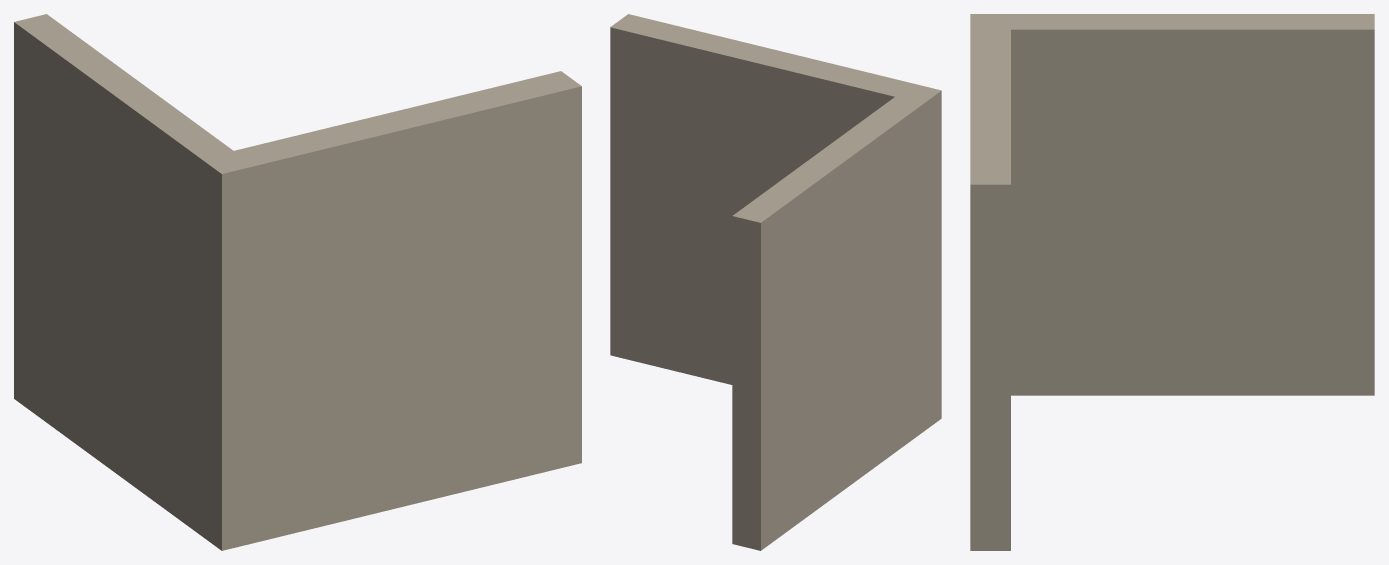
File: Village_Wall_2m_Plaster_Corner.fbx
3 renders of one model, left to right at view 1: azimuth 30°, elevation 25°; view 2: azimuth 150°, elevation 25°; view 3: azimuth 270°, elevation 25°, orthographic. The views are drawn at different scales.
Visible parts, largest first — view 1: Village_Wall_2m_Corner_A.045; view 2: Village_Wall_2m_Corner_A.045; view 3: Village_Wall_2m_Corner_A.045.
Part boxes in pixels (x1=…): Village_Wall_2m_Corner_A.045: x1=14, y1=14, x2=581, y2=550; Village_Wall_2m_Corner_A.045: x1=610, y1=14, x2=941, y2=550; Village_Wall_2m_Corner_A.045: x1=970, y1=14, x2=1374, y2=550.
Bounding box in the file's own units: 200 × 200 × 200.
